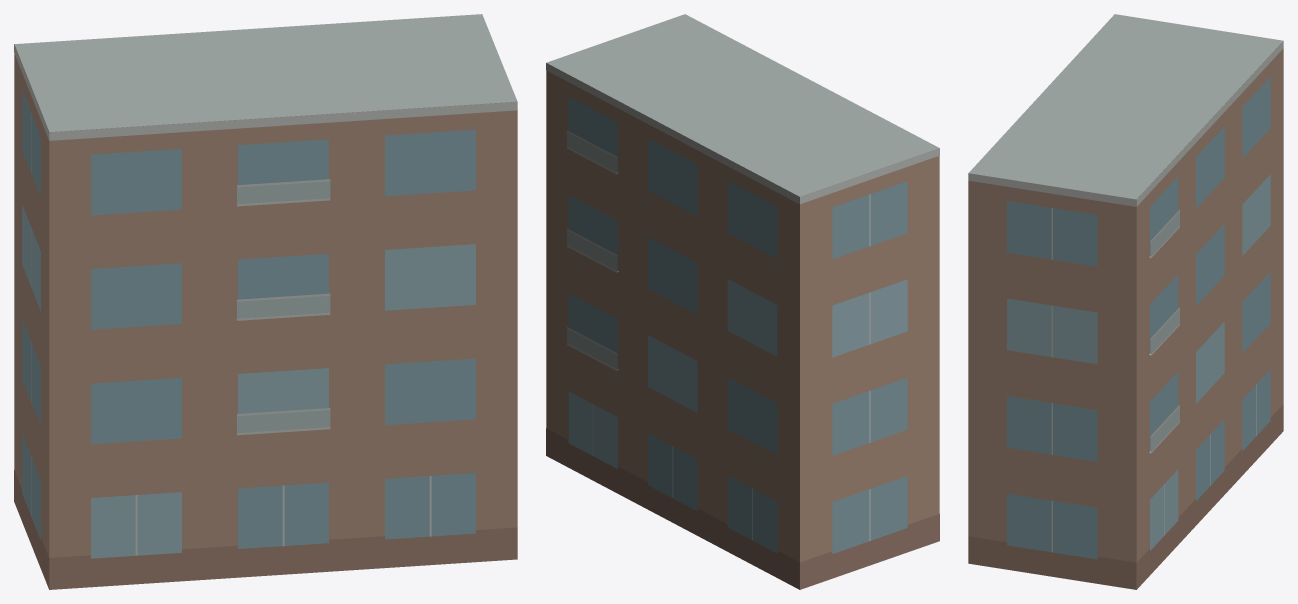
The model's file is survey-upis-32725395.glb.
The picture shows the model from 3 angles, left to right: view 1: azimuth 30°, elevation 25°; view 2: azimuth 150°, elevation 25°; view 3: azimuth 270°, elevation 25°; orthographic projection. The views are drawn at different scales.
Parts seen in each view (by area): view 1: survey-upis-32725395.tmp; view 2: survey-upis-32725395.tmp; view 3: survey-upis-32725395.tmp.
Boxes of the visible parts, <box> form: survey-upis-32725395.tmp: <box>14,14,517,589</box>; survey-upis-32725395.tmp: <box>546,14,939,589</box>; survey-upis-32725395.tmp: <box>968,14,1283,589</box>.
Size of the model in its own units: 13.05 by 12.8 by 9.38.
